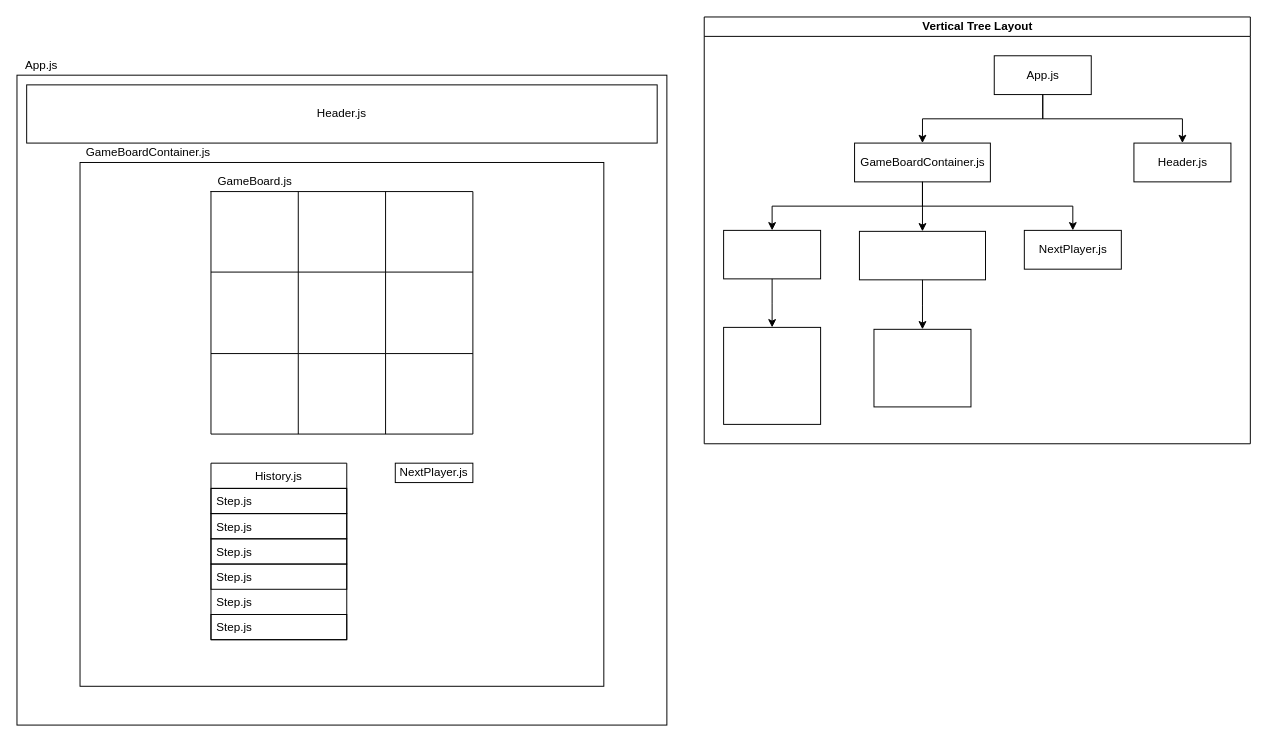
Image size: 1268x742. Some labels were removed from this diagram. Here are the shapes that lost their labels. From the top down, the centre of each, then its label:
At (772,254): "GameBoard.js state: matrix".
At (922,255): "History.js state: array of matrixes".
At (341,312): "Cell.js".
At (772,375): "Cell.js onClick:change content of cell".
At (922,367): "Step.js to be added when cell clicked and changed".
